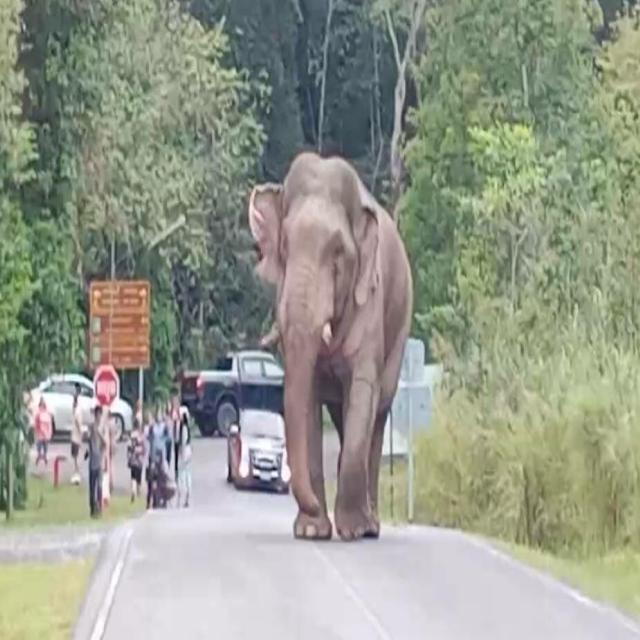Elephant: (243, 146, 416, 546)
